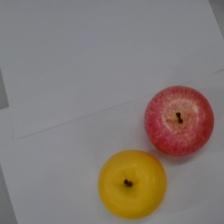red: (143, 84, 215, 157)
yellow: (97, 148, 167, 220)
